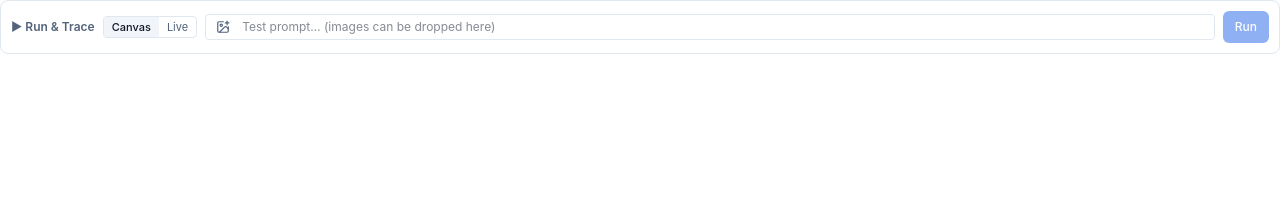
Test: FlowRunDrawer › reasoning streams in an open Thinking block and collapses when the answer starts
Type "hi" into the field labelled "Test prompt" at (723, 27), box [238, 15, 1208, 39]
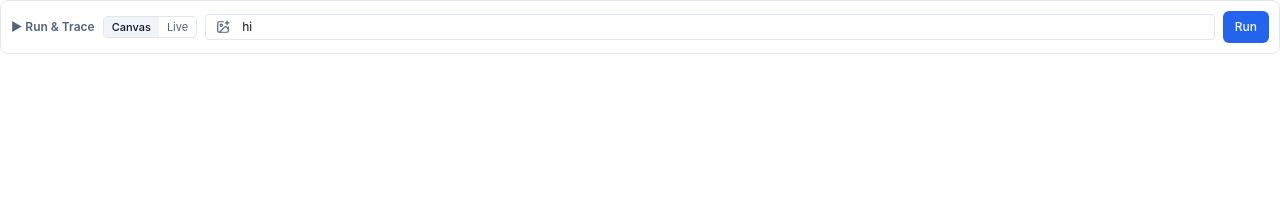
Click the button "Run" at (1246, 27), box [1223, 11, 1269, 43]
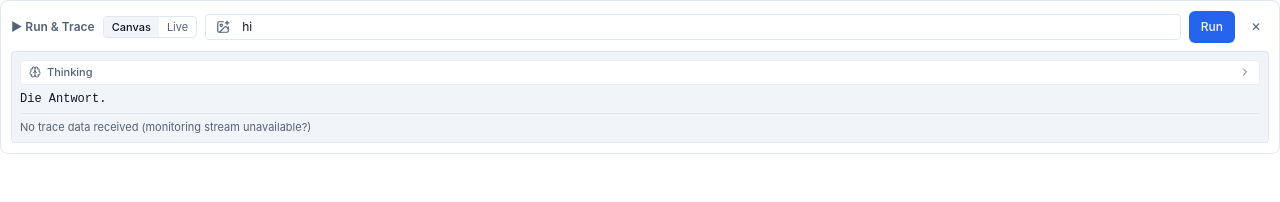
Expected: the text "Ich prüfe das. Noch ein Gedanke." is not shown
Result: the text "Die Antwort." is shown at [20, 92, 106, 106]
Result: the element with test id "thinking" is shown
Click the button "Thinking" at (70, 72), box [21, 61, 1259, 84]
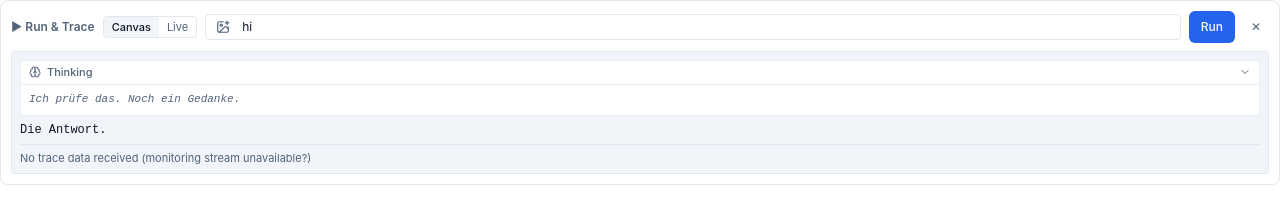
Result: the text "Ich prüfe das. Noch ein Gedanke." is shown at [21, 84, 1259, 115]
